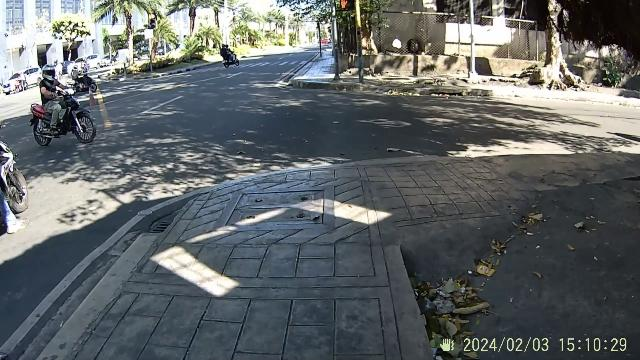cracked_pavement: (406, 258, 502, 358)
motorcycle: (29, 95, 100, 147)
tree: (534, 2, 582, 92)
utility_post: (352, 0, 368, 84)
